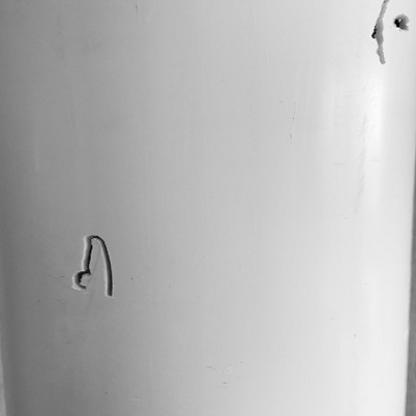fengxi: (68, 234, 115, 298)
kongdong: (366, 1, 394, 69), (392, 12, 413, 37)
